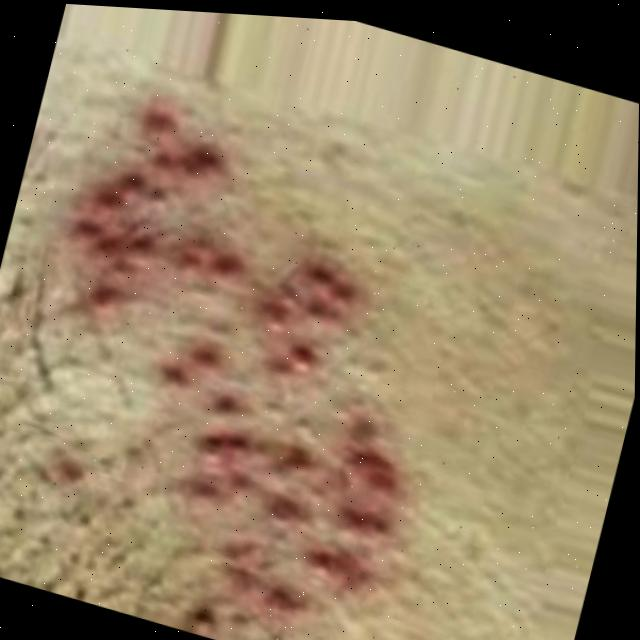Shingles: (0, 80, 475, 640)
